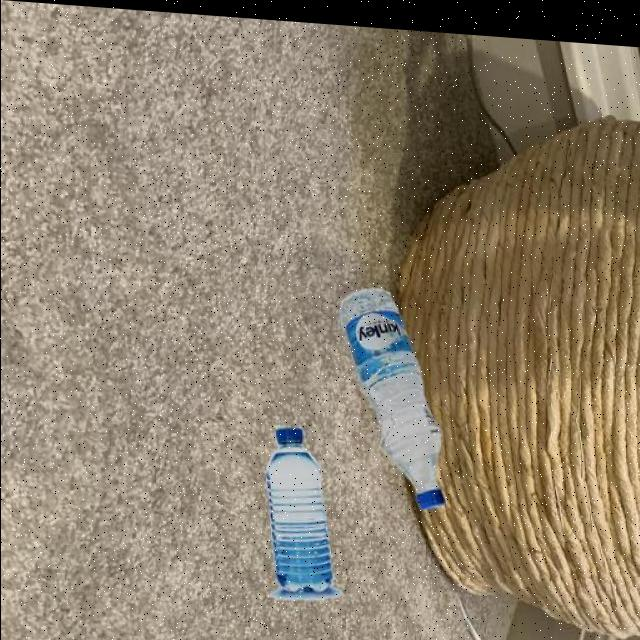bottle: (338, 277, 448, 505), (262, 419, 342, 598)
